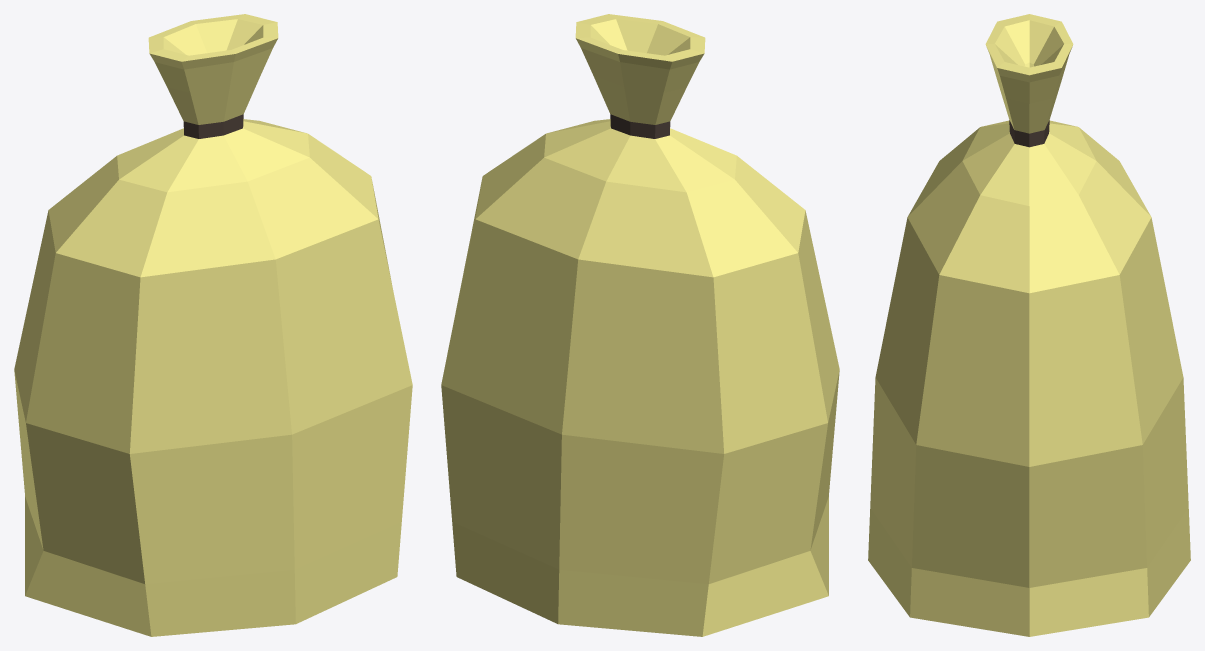
The model's file is Bag_2.fbx.
3 renders of one model, left to right at view 1: azimuth 30°, elevation 25°; view 2: azimuth 150°, elevation 25°; view 3: azimuth 270°, elevation 25°, orthographic. The views are drawn at different scales.
Visible parts, largest first — view 1: Bag_2; view 2: Bag_2; view 3: Bag_2.
Boxes of the visible parts, x1=… form: Bag_2: x1=14, y1=14, x2=412, y2=636; Bag_2: x1=441, y1=14, x2=839, y2=636; Bag_2: x1=868, y1=14, x2=1190, y2=636.
Size of the model in its own units: 73.96 by 55.97 by 100.
